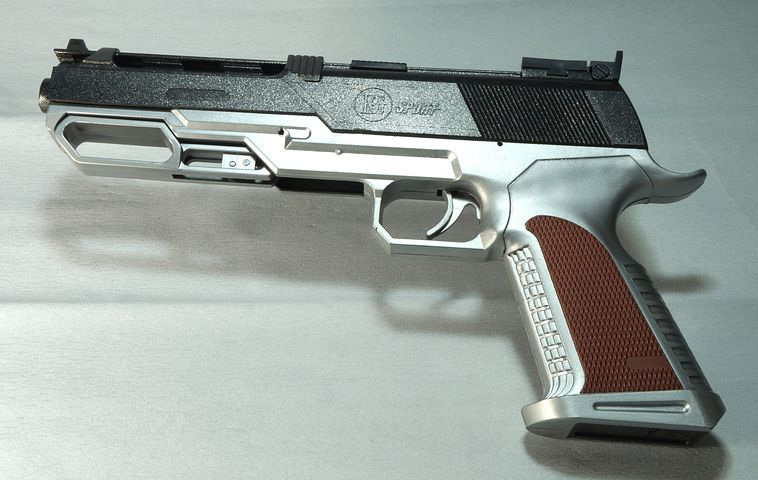gun: (34, 30, 733, 445)
